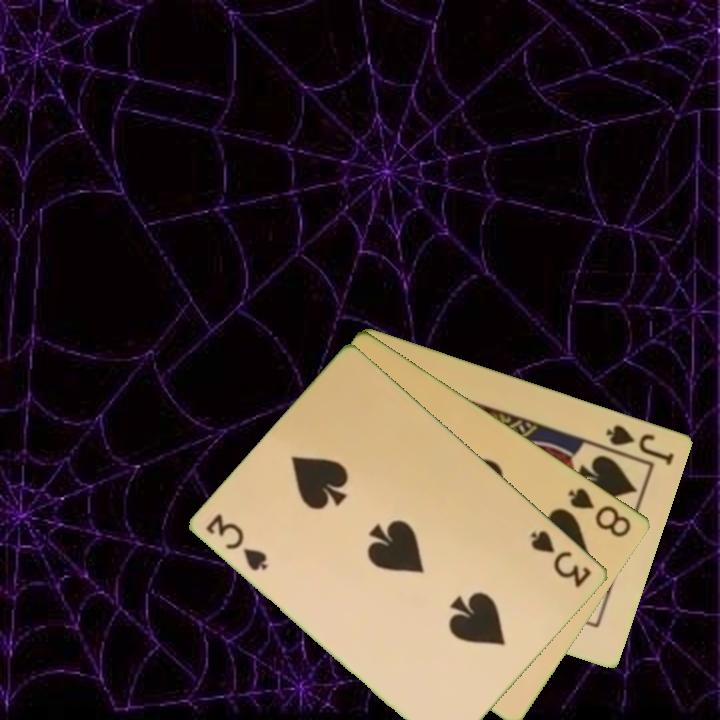3s: (202, 509, 271, 574), (527, 526, 595, 591)
8s: (565, 484, 635, 541)
Js: (603, 421, 678, 468)
